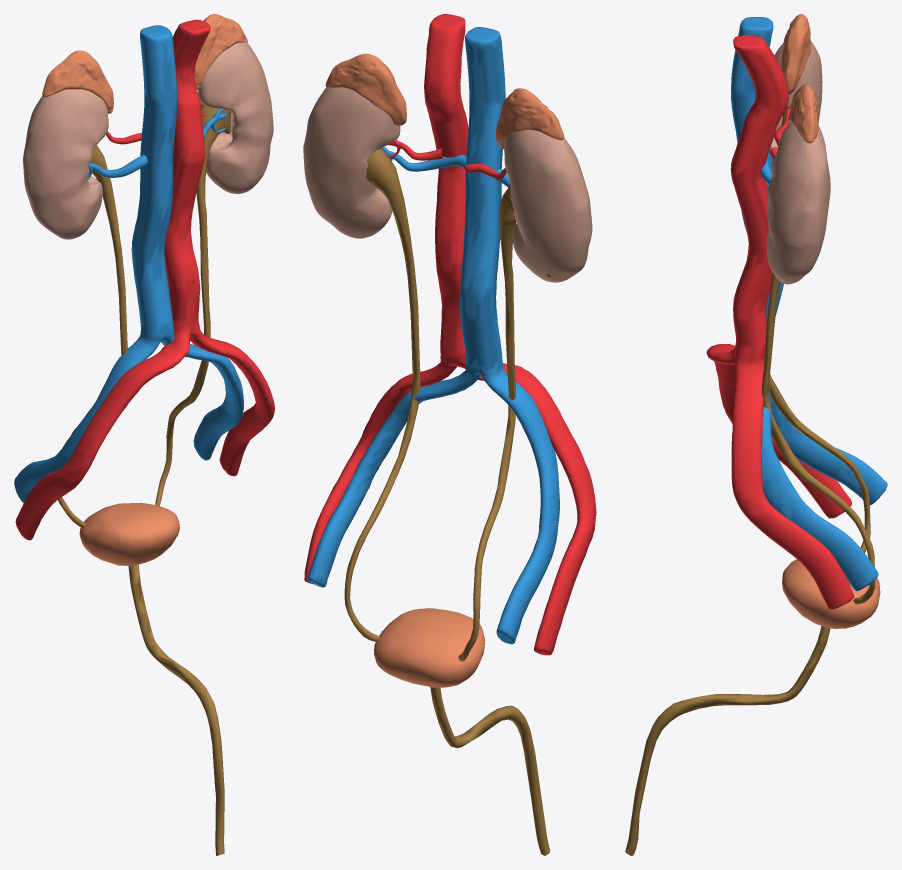
The model's file is excretor.glb.
3 renders of one model, left to right at view 1: azimuth 30°, elevation 25°; view 2: azimuth 150°, elevation 25°; view 3: azimuth 270°, elevation 25°, orthographic. The views are drawn at different scales.
Visible parts, largest first — view 1: Cube.001, Cube, Kidney.l_grp1.001, Kidney.l_grp1.554, Prostate_Generated_Mesh_From_X3D.904, Ureter.r_grp1.775, Ureter.l_grp1.763, Suprarenal_gland.l_grp1.001, Ureter.l_grp1.001, Suprarenal_gland.l_grp1.416, Cube.003; view 2: Cube, Cube.001, Kidney.l_grp1.001, Kidney.l_grp1.554, Prostate_Generated_Mesh_From_X3D.904, Ureter.l_grp1.763, Ureter.l_grp1.001, Ureter.r_grp1.775, Suprarenal_gland.l_grp1.416, Suprarenal_gland.l_grp1.001, Cube.002; view 3: Cube.001, Cube, Kidney.l_grp1.554, Ureter.r_grp1.775, Prostate_Generated_Mesh_From_X3D.904, Ureter.l_grp1.763, Suprarenal_gland.l_grp1.001, Ureter.l_grp1.001, Suprarenal_gland.l_grp1.416, Kidney.l_grp1.001.
Part boxes in pixels (bbox=[...]): Cube.001: bbox=[15, 19, 274, 540]; Cube: bbox=[14, 25, 243, 502]; Kidney.l_grp1.001: bbox=[23, 89, 108, 239]; Kidney.l_grp1.554: bbox=[197, 42, 273, 193]; Prostate_Generated_Mesh_From_X3D.904: bbox=[79, 502, 179, 565]; Ureter.r_grp1.775: bbox=[128, 564, 224, 855]; Ureter.l_grp1.763: bbox=[155, 105, 231, 505]; Suprarenal_gland.l_grp1.001: bbox=[42, 50, 113, 113]; Ureter.l_grp1.001: bbox=[58, 145, 127, 527]; Suprarenal_gland.l_grp1.416: bbox=[194, 14, 247, 89]; Cube.003: bbox=[88, 154, 147, 179]; Cube: bbox=[307, 27, 559, 644]; Cube.001: bbox=[304, 14, 596, 655]; Kidney.l_grp1.001: bbox=[503, 129, 592, 282]; Kidney.l_grp1.554: bbox=[303, 87, 400, 238]; Prostate_Generated_Mesh_From_X3D.904: bbox=[374, 608, 485, 687]; Ureter.l_grp1.763: bbox=[342, 148, 420, 642]; Ureter.l_grp1.001: bbox=[458, 185, 551, 661]; Ureter.r_grp1.775: bbox=[430, 687, 549, 855]; Suprarenal_gland.l_grp1.416: bbox=[325, 53, 406, 125]; Suprarenal_gland.l_grp1.001: bbox=[495, 88, 564, 149]; Cube.002: bbox=[381, 146, 466, 171]; Cube.001: bbox=[706, 35, 854, 609]; Cube: bbox=[731, 17, 887, 591]; Kidney.l_grp1.554: bbox=[766, 122, 830, 284]; Ureter.r_grp1.775: bbox=[625, 626, 830, 855]; Prostate_Generated_Mesh_From_X3D.904: bbox=[782, 559, 880, 628]; Ureter.l_grp1.763: bbox=[761, 272, 875, 604]; Suprarenal_gland.l_grp1.001: bbox=[781, 14, 811, 94]; Ureter.l_grp1.001: bbox=[769, 110, 870, 552]; Suprarenal_gland.l_grp1.416: bbox=[786, 84, 818, 143]; Kidney.l_grp1.001: bbox=[771, 41, 822, 165].
Size of the model in its own units: 0.6732 by 2.02 by 0.5794.
